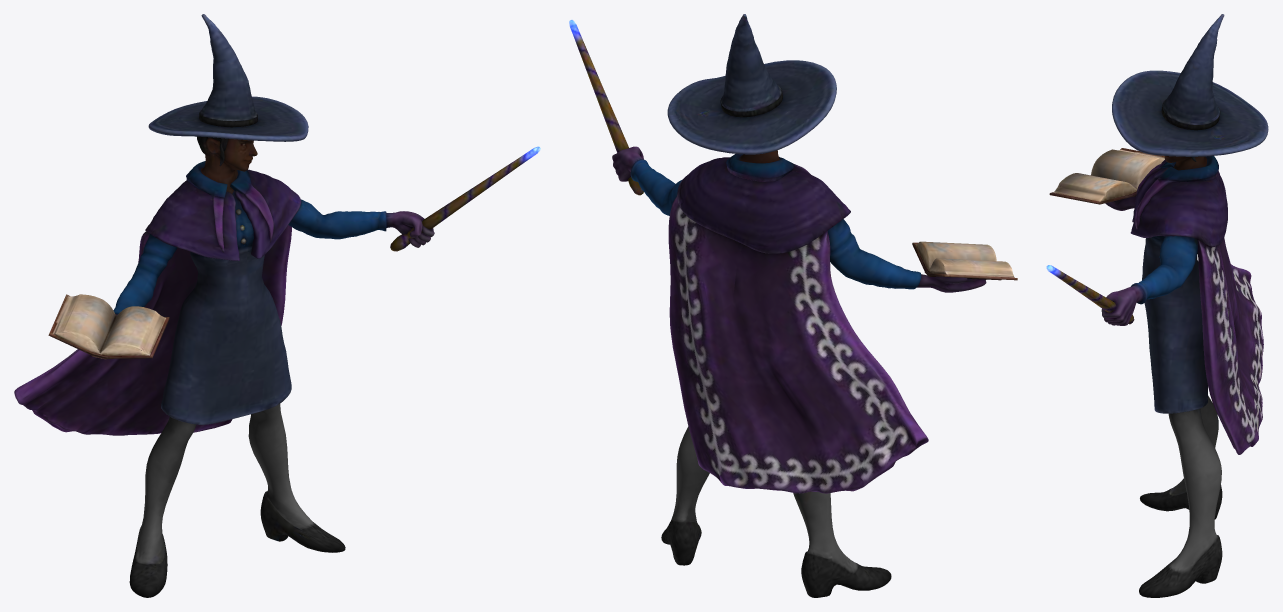
Rendered from MZ4250 - Human Female Illusion Wizard_2.glb.
3 views of the same model, side by side, from view 1: azimuth 30°, elevation 25°; view 2: azimuth 150°, elevation 25°; view 3: azimuth 270°, elevation 25° (orthographic). The views are drawn at different scales.
Parts seen in each view (by area): view 1: Body.002; view 2: Body.002; view 3: Body.002.
Part boxes in pixels (x1,y1,x2,y2): Body.002: (14, 14, 540, 597); Body.002: (569, 14, 1017, 597); Body.002: (1046, 14, 1268, 597).
Bounding box in the file's own units: 0.9377 × 1.05 × 0.3956.
1 material, 1 textured.
